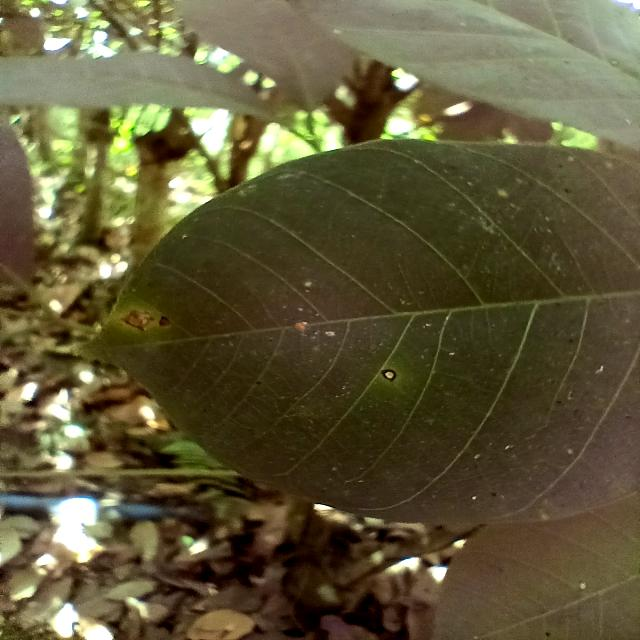Colletotrichum: (381, 369, 397, 381)
